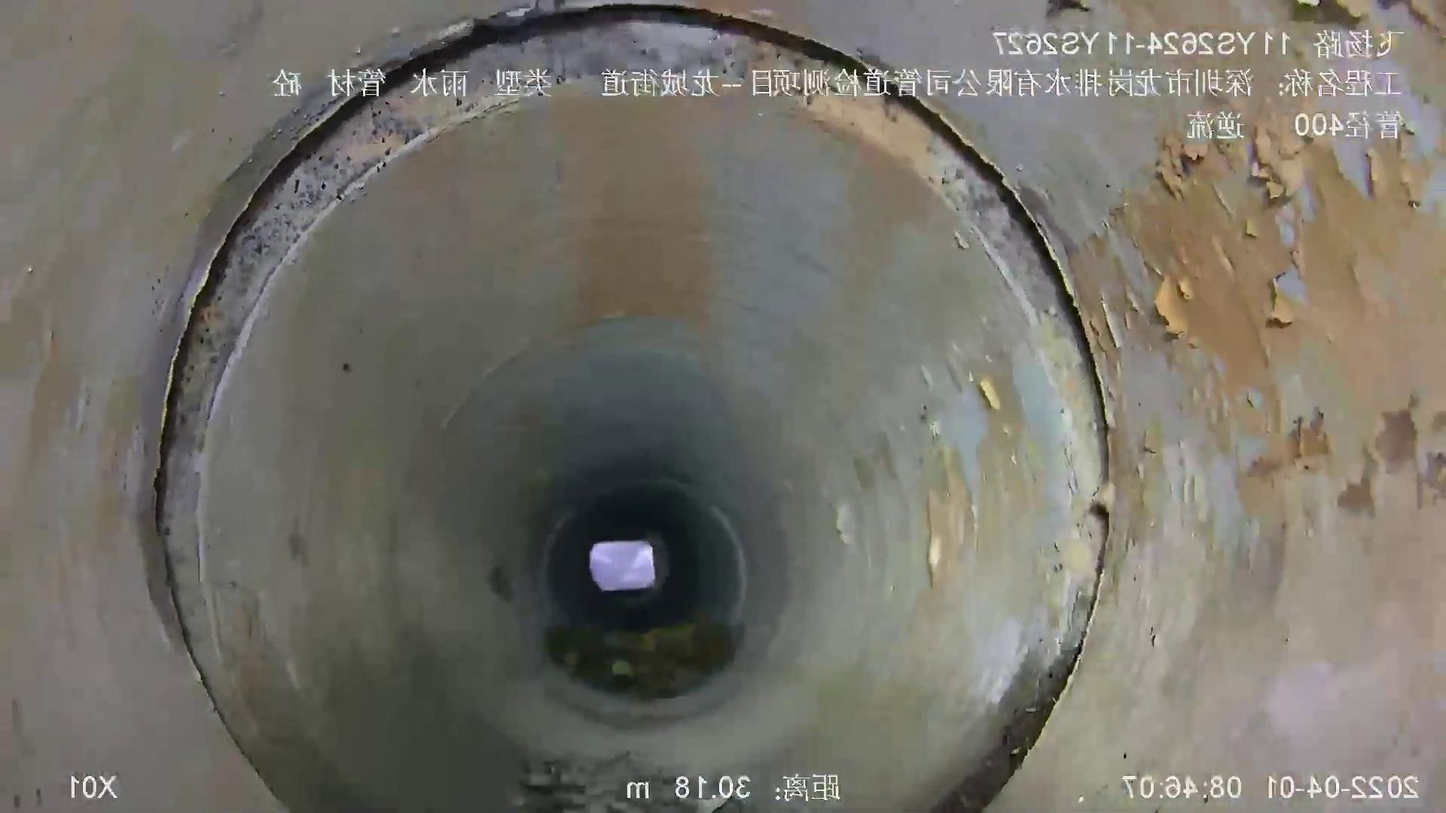CJ: (547, 617, 730, 698)
CKTJ: (142, 3, 1124, 811), (534, 473, 750, 630)
